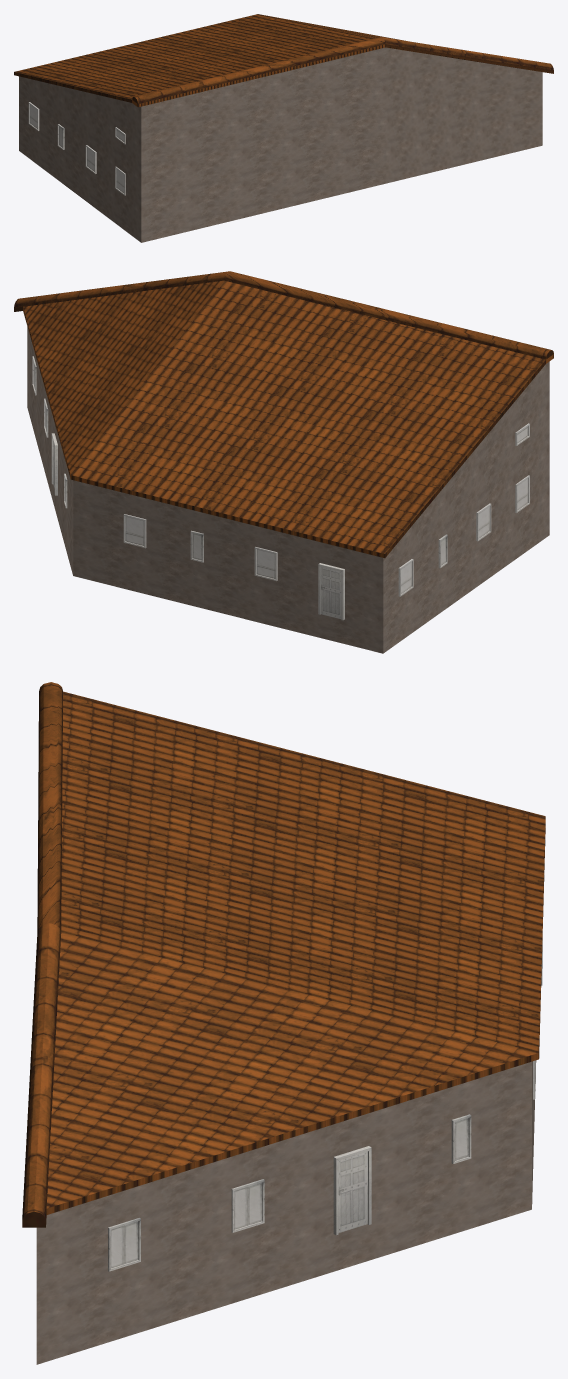
The model's file is Casa_17.fbx.
3 views of the same model, one above another, from view 1: azimuth 30°, elevation 25°; view 2: azimuth 150°, elevation 25°; view 3: azimuth 270°, elevation 25° (orthographic). The views are drawn at different scales.
Visible parts, largest first — view 1: Casa_17; view 2: Casa_17; view 3: Casa_17.
Part boxes in pixels (x1=…): Casa_17: x1=14, y1=14, x2=553, y2=242; Casa_17: x1=14, y1=271, x2=553, y2=653; Casa_17: x1=22, y1=682, x2=545, y2=1364.
Bounding box in the file's own units: 22.5 × 7.54 × 12.39.
